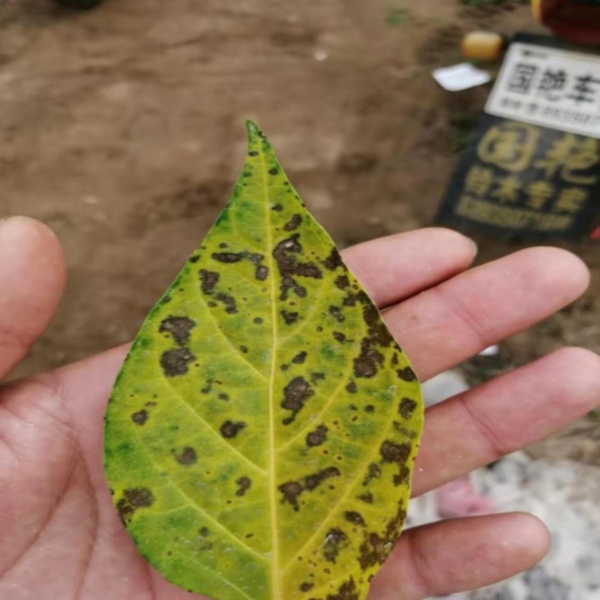Anthrax: (107, 122, 419, 600)
